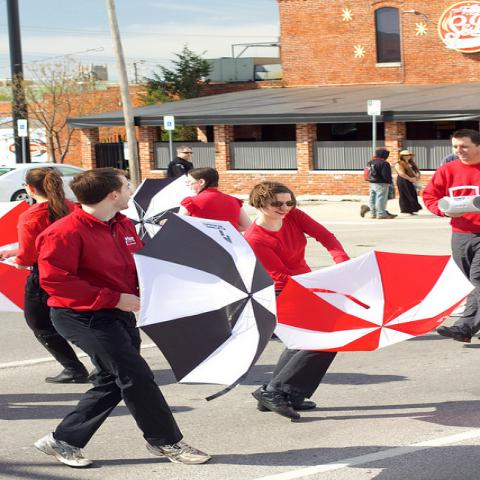car: (0, 162, 90, 207)
